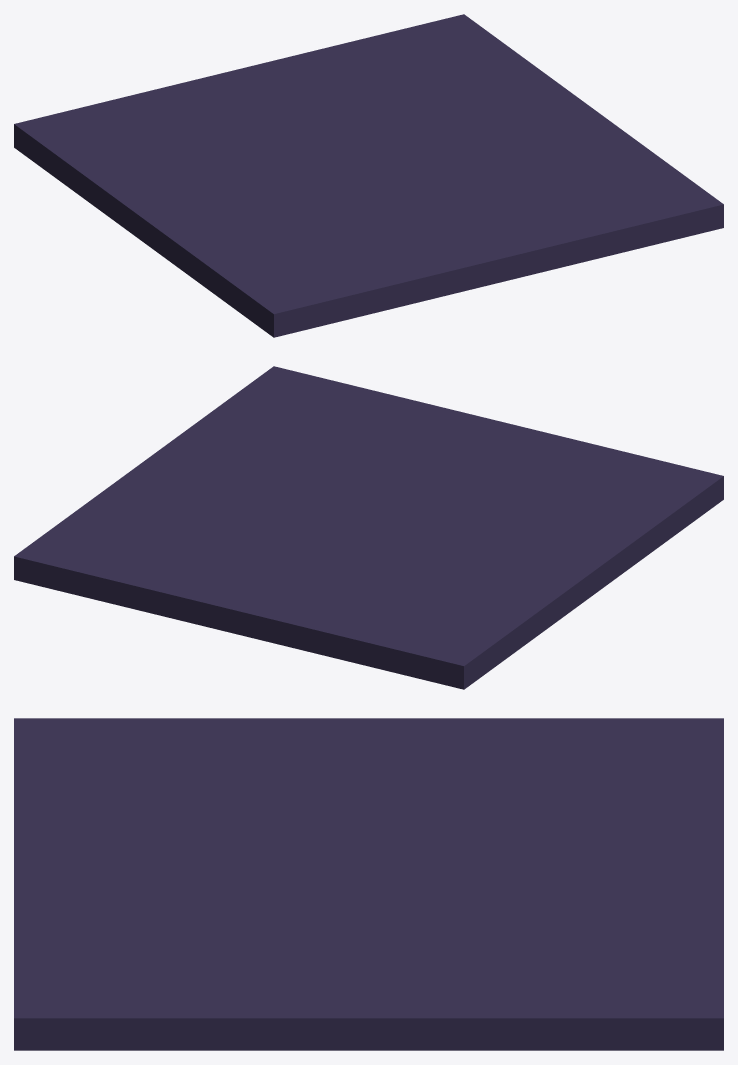
Rendered from Ceiling_Fire_Sprinkler.fbx.
The picture shows the model from 3 angles, top to bottom: view 1: azimuth 30°, elevation 25°; view 2: azimuth 150°, elevation 25°; view 3: azimuth 270°, elevation 25°; orthographic projection. The views are drawn at different scales.
Parts seen in each view (by area): view 1: Ceiling_Tile_Fire_Sprinkler; view 2: Ceiling_Tile_Fire_Sprinkler; view 3: Ceiling_Tile_Fire_Sprinkler.
Part boxes in pixels (x1,y1,x2,y2): Ceiling_Tile_Fire_Sprinkler: [14, 14, 723, 337]; Ceiling_Tile_Fire_Sprinkler: [14, 366, 723, 689]; Ceiling_Tile_Fire_Sprinkler: [14, 718, 723, 1050].
Bounding box in the file's own units: 2 × 0.3219 × 2.
